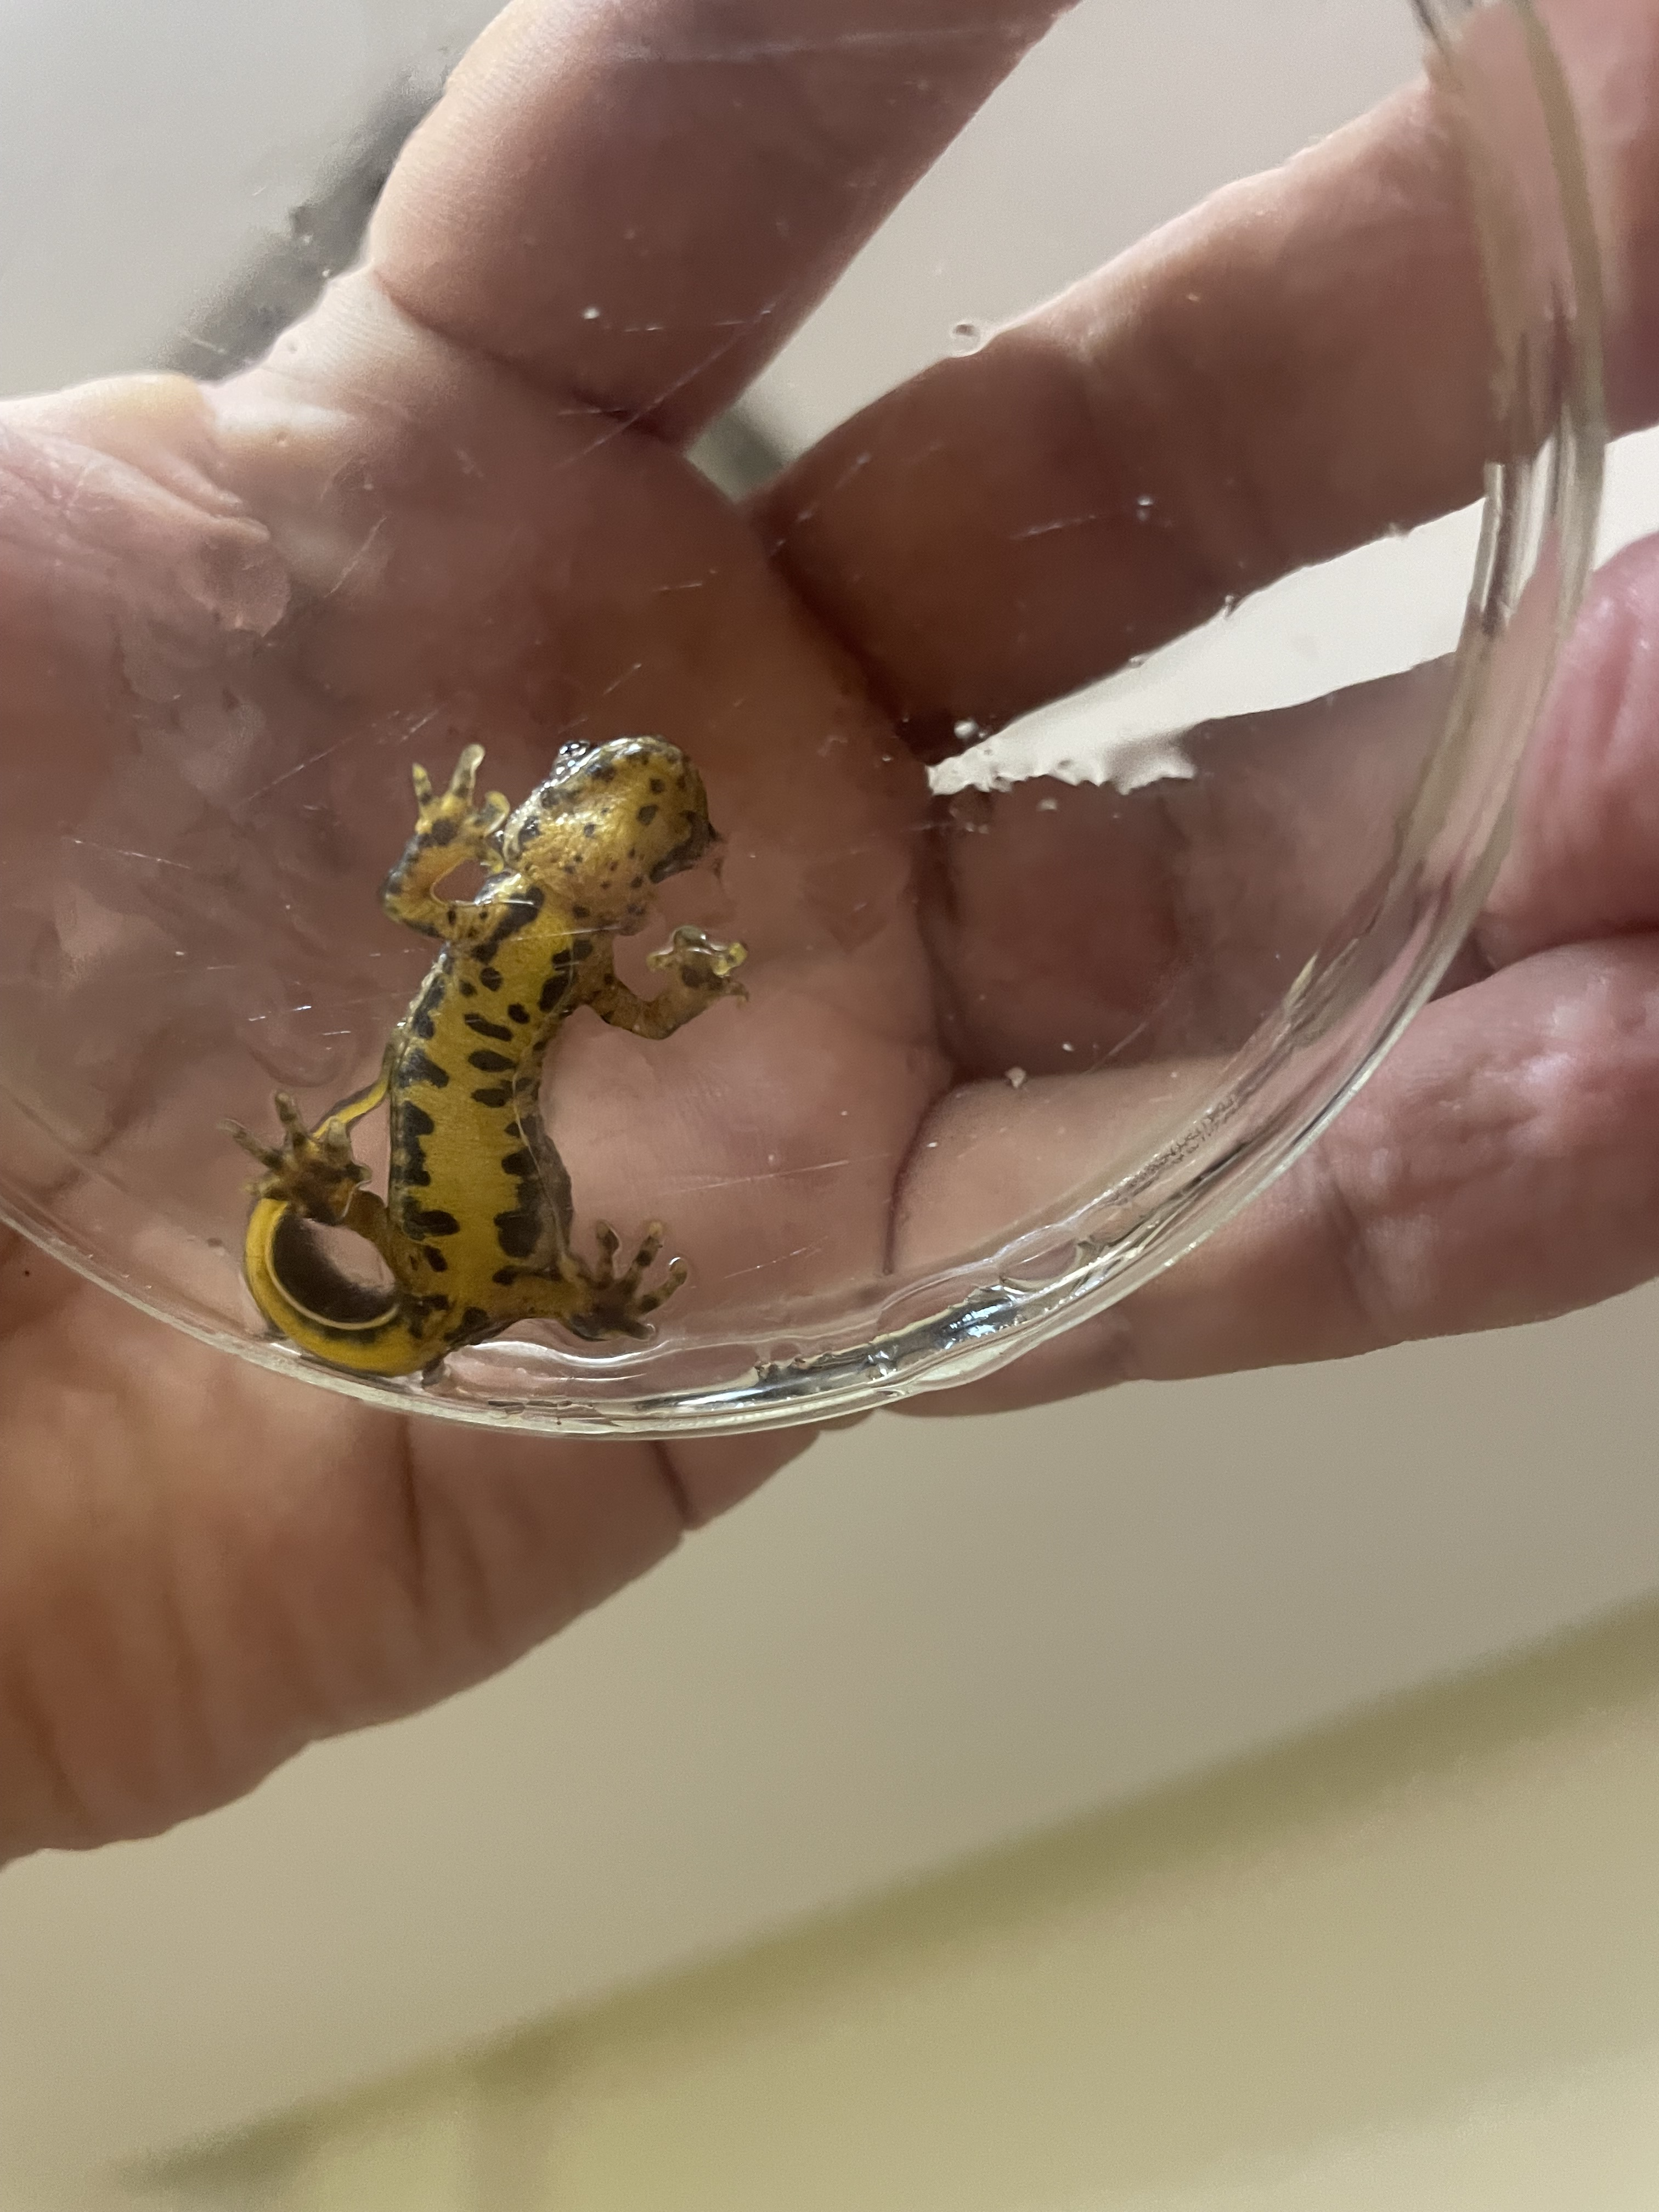Karelin_newt: (387, 939, 584, 1270)
